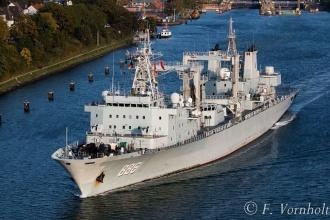warship: (45, 17, 300, 196)
